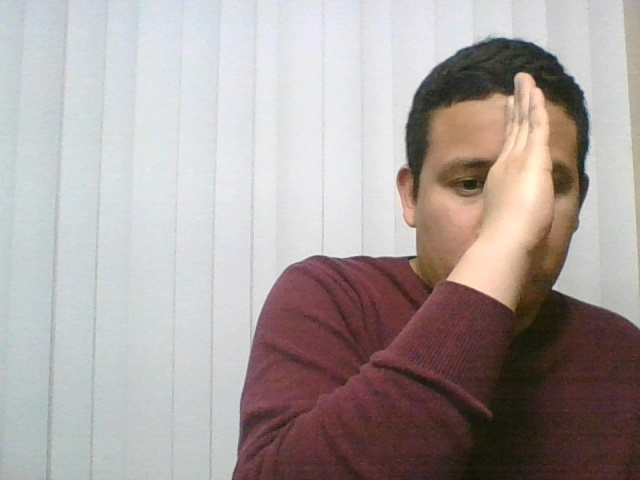God: (407, 54, 599, 338)
